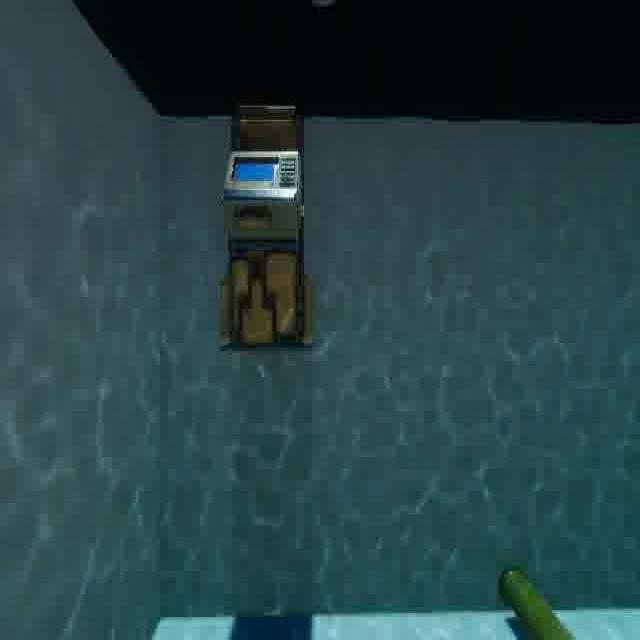Control Panel: (217, 88, 323, 362)
Pipe: (494, 553, 620, 640)
